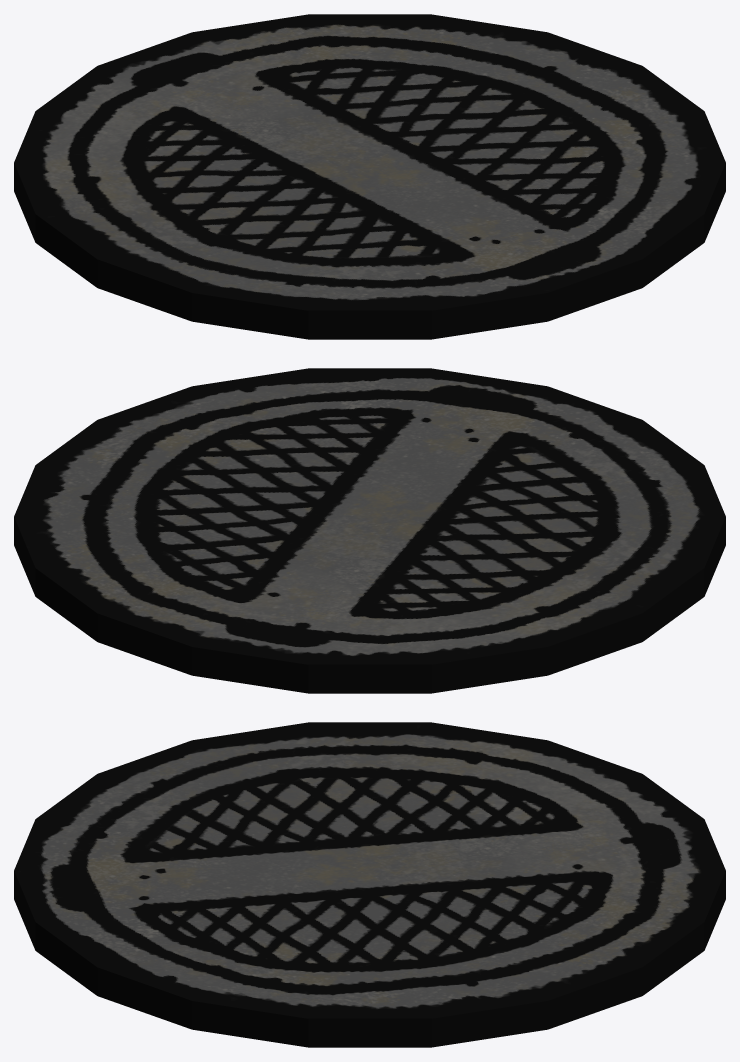
Rendered from ManholeCover.fbx.
3 renders of one model, top to bottom at view 1: azimuth 30°, elevation 25°; view 2: azimuth 150°, elevation 25°; view 3: azimuth 270°, elevation 25°, orthographic.
Visible parts, largest first — view 1: Cylinder.026; view 2: Cylinder.026; view 3: Cylinder.026.
Part boxes in pixels (left/top/right/bottom): Cylinder.026: left=14, top=14, right=725, bottom=339; Cylinder.026: left=14, top=368, right=725, bottom=693; Cylinder.026: left=14, top=722, right=725, bottom=1047.
Size of the model in its own units: 106 by 4.78 by 107.
